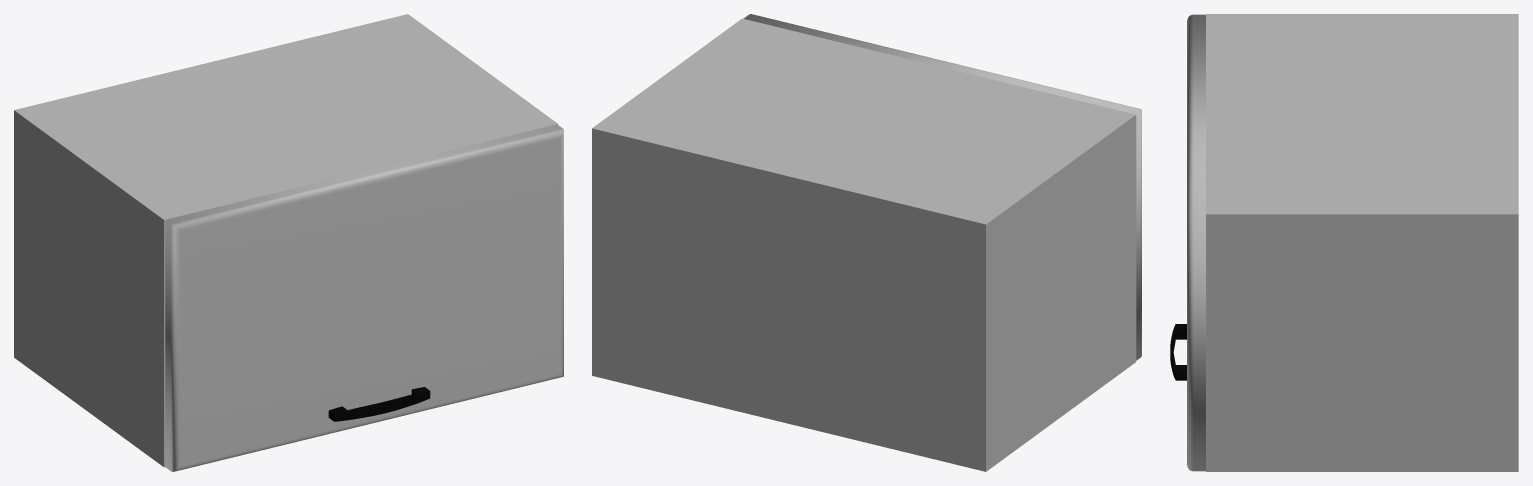
3 renders of one model, left to right at view 1: azimuth 30°, elevation 25°; view 2: azimuth 150°, elevation 25°; view 3: azimuth 270°, elevation 25°, orthographic. The views are drawn at different scales.
Parts seen in each view (by area): view 1: Box037, Box015, Obj3d66-503491-2-358; view 2: Box015, Box037; view 3: Box015, Box037, Obj3d66-503491-2-358.
Boxes of the visible parts, x1,y1,x2,y2 form: Box037: (165,124,563,471); Box015: (14,14,558,467); Obj3d66-503491-2-358: (328,387,430,421); Box015: (592,18,1136,471); Box037: (743,14,1141,360); Box015: (1206,14,1518,471); Box037: (1187,14,1205,471); Obj3d66-503491-2-358: (1170,324,1186,380).
Bounding box in the file's own units: 0.5 × 0.3 × 0.3675.
2 materials, 1 textured.
